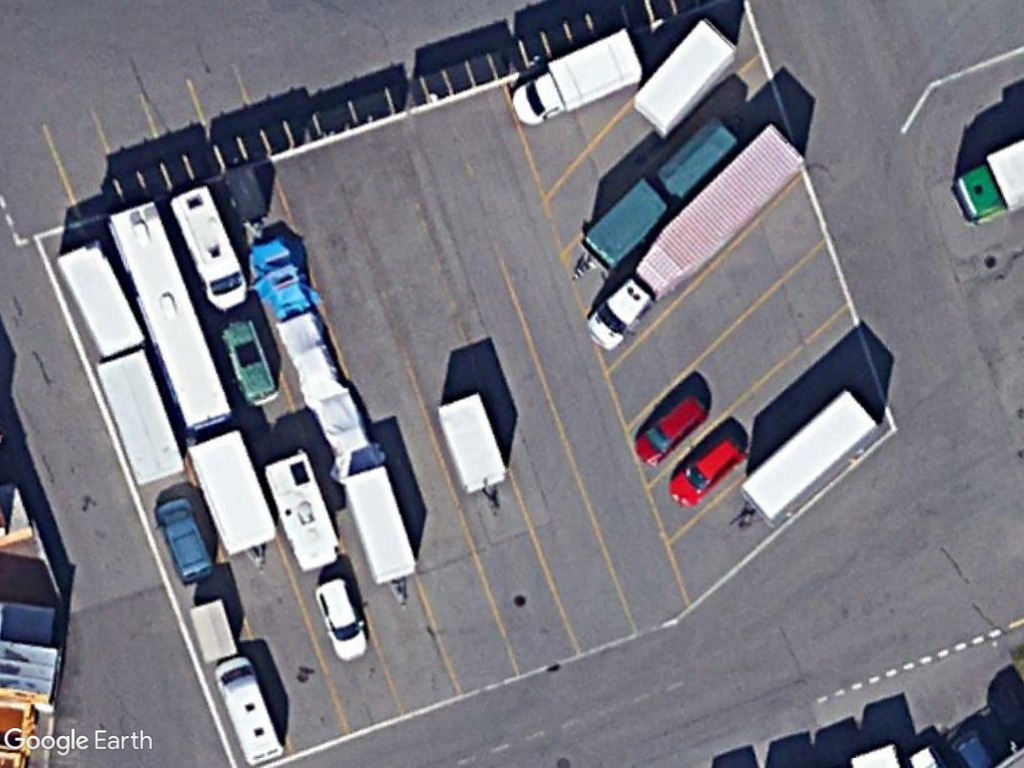bus: (103, 193, 233, 435)
car: (667, 430, 748, 512), (632, 391, 713, 469), (150, 497, 216, 585), (313, 575, 373, 665)
longvehicle: (579, 122, 806, 357)
truck: (508, 29, 650, 131)
van: (167, 180, 250, 316), (212, 655, 287, 768)
